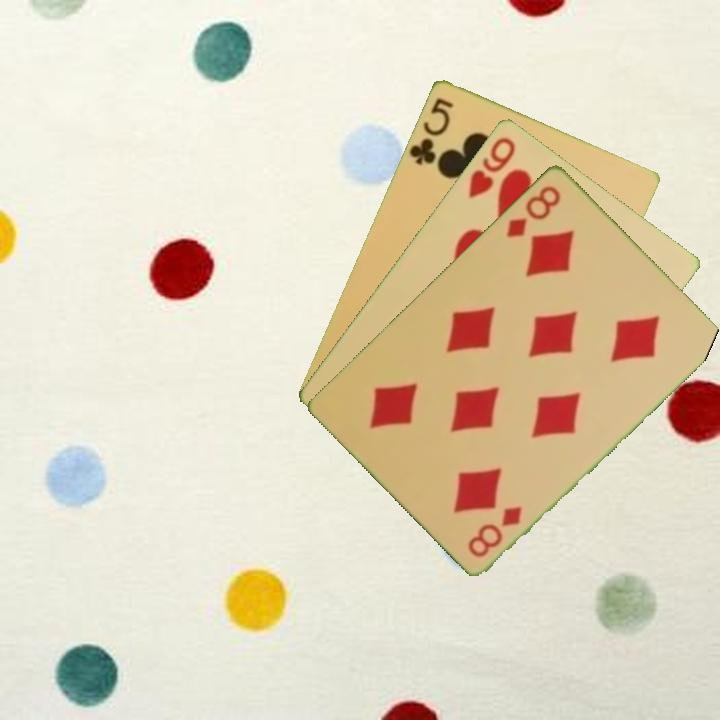5c: (405, 93, 457, 167)
8d: (502, 181, 564, 240), (464, 501, 526, 560)
9h: (464, 133, 519, 202)
